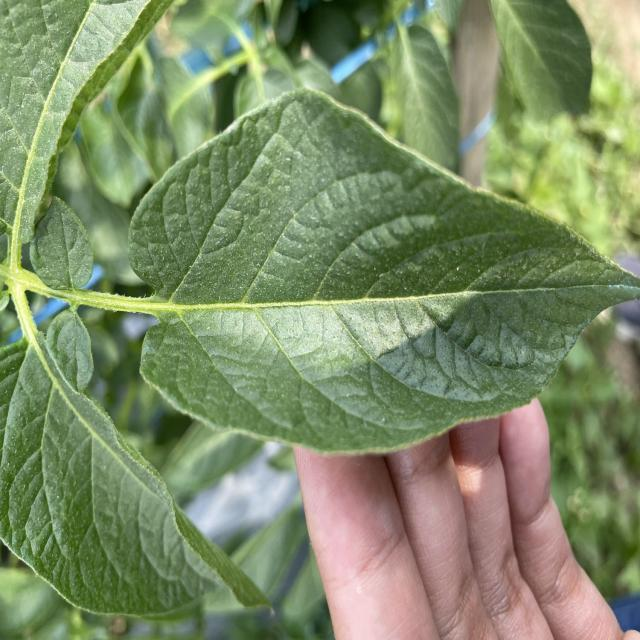healthy: (125, 86, 638, 458)
